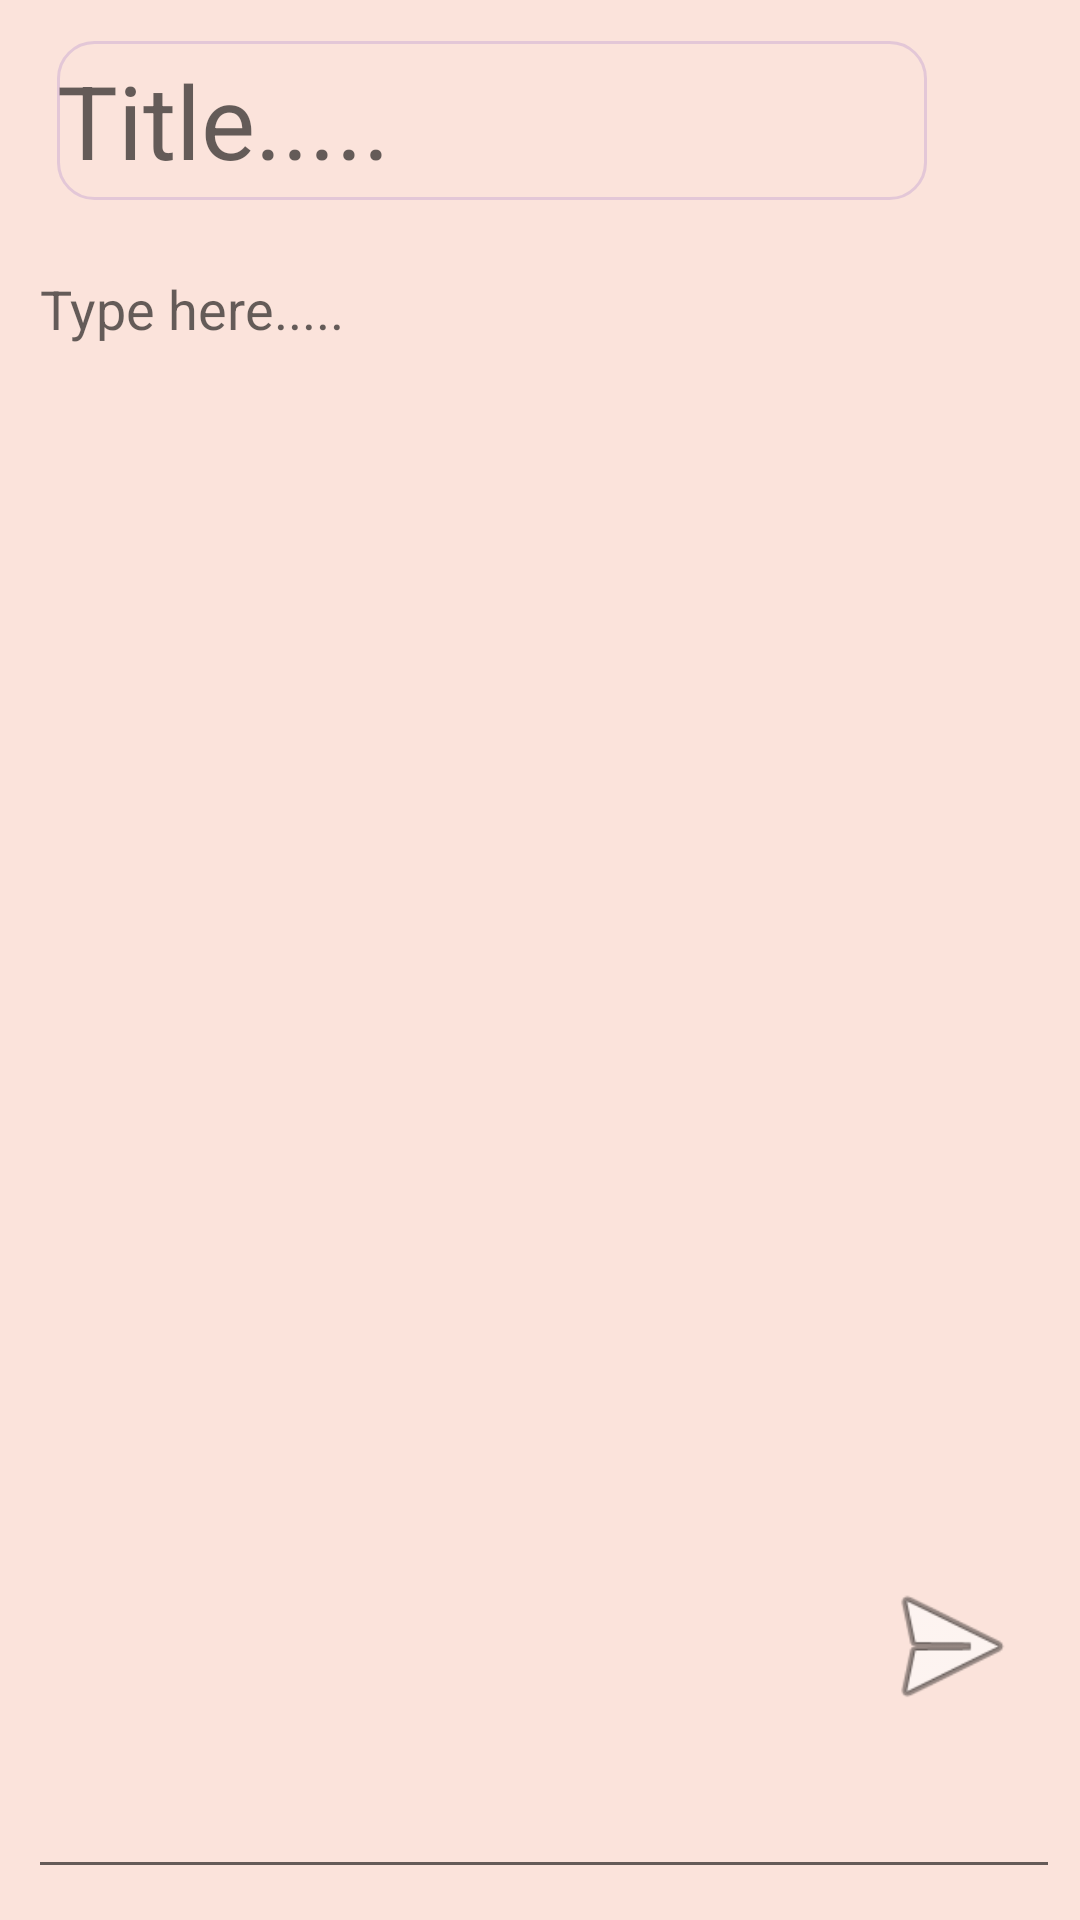

Icon click points for this 1080×1920 phone screenshot, format (x,y):
send: (952,1646)
